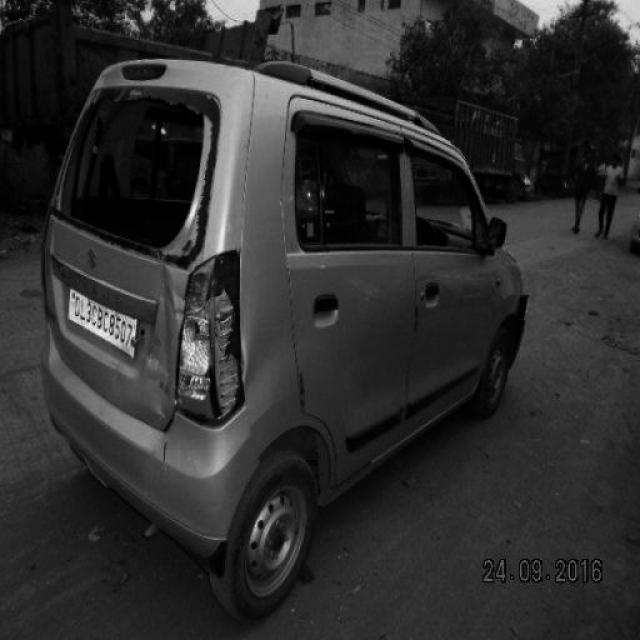car damage: (51, 93, 209, 262), (175, 263, 250, 431), (145, 265, 185, 468)
